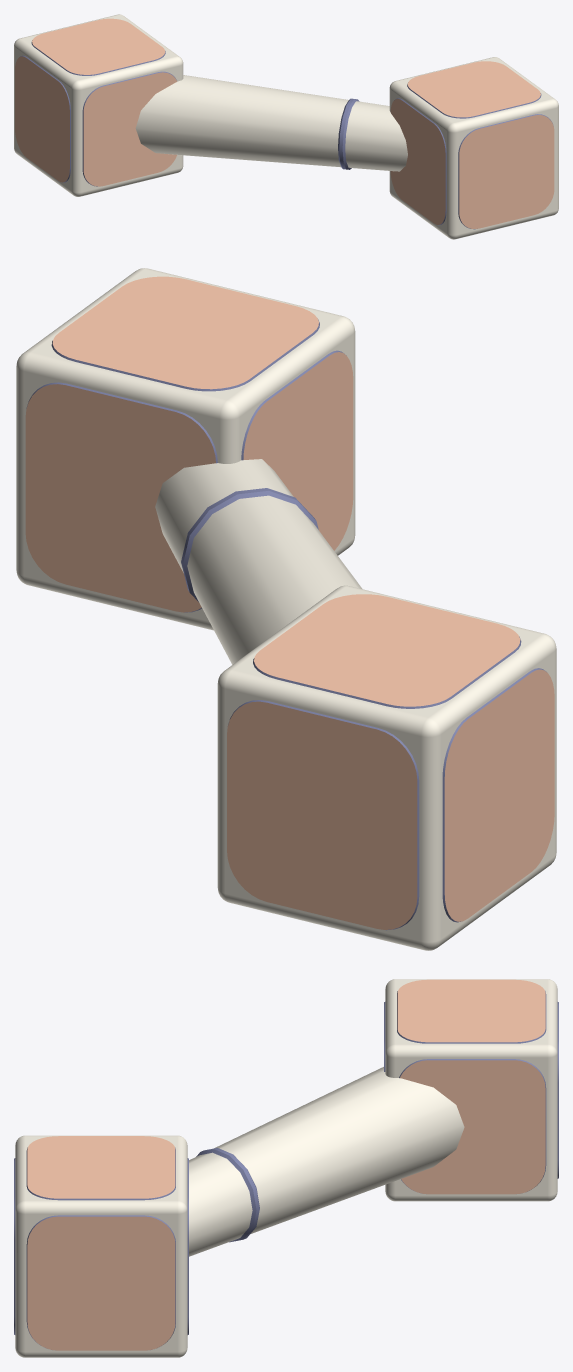
Rendered from R4C_STRUT_DIAG_2D.fbx.
3 renders of one model, top to bottom at view 1: azimuth 30°, elevation 25°; view 2: azimuth 150°, elevation 25°; view 3: azimuth 270°, elevation 25°, orthographic. The views are drawn at different scales.
Parts seen in each view (by area): view 1: R4C_STRUT_DIAG_2D; view 2: R4C_STRUT_DIAG_2D; view 3: R4C_STRUT_DIAG_2D.
Part boxes in pixels (bbox=[...]): R4C_STRUT_DIAG_2D: bbox=[14, 14, 558, 239]; R4C_STRUT_DIAG_2D: bbox=[16, 268, 556, 950]; R4C_STRUT_DIAG_2D: bbox=[14, 979, 558, 1357].
Bounding box in the file's own units: 1.62 × 0.52 × 1.62.
